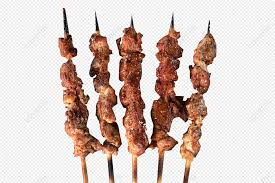Sate ayam: (51, 3, 102, 183), (83, 7, 126, 183), (179, 16, 221, 183), (150, 7, 185, 183), (118, 12, 151, 183)
